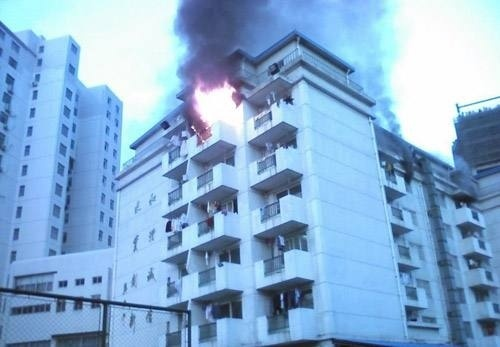fire: (189, 79, 240, 133)
